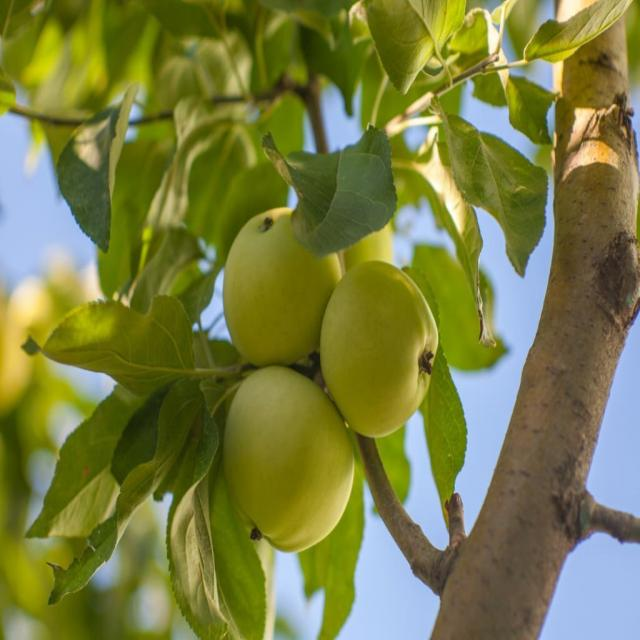Green Apple: (222, 359, 352, 549), (329, 253, 446, 435), (223, 204, 338, 363)
